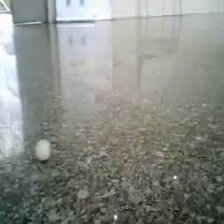w: (33, 137, 53, 163)
